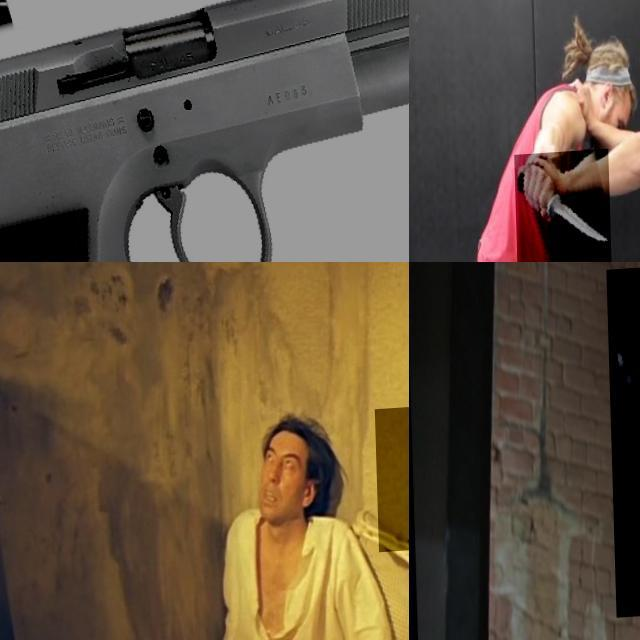-: (513, 153, 610, 262)
gun-knife-thesis - v11 Yolov5 augmented: (0, 0, 409, 262), (373, 410, 409, 558)
